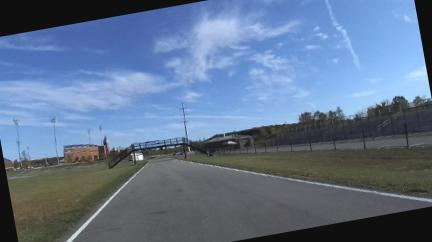Grass: (189, 148, 431, 197), (8, 163, 142, 241)
Lane: (73, 158, 431, 241)
